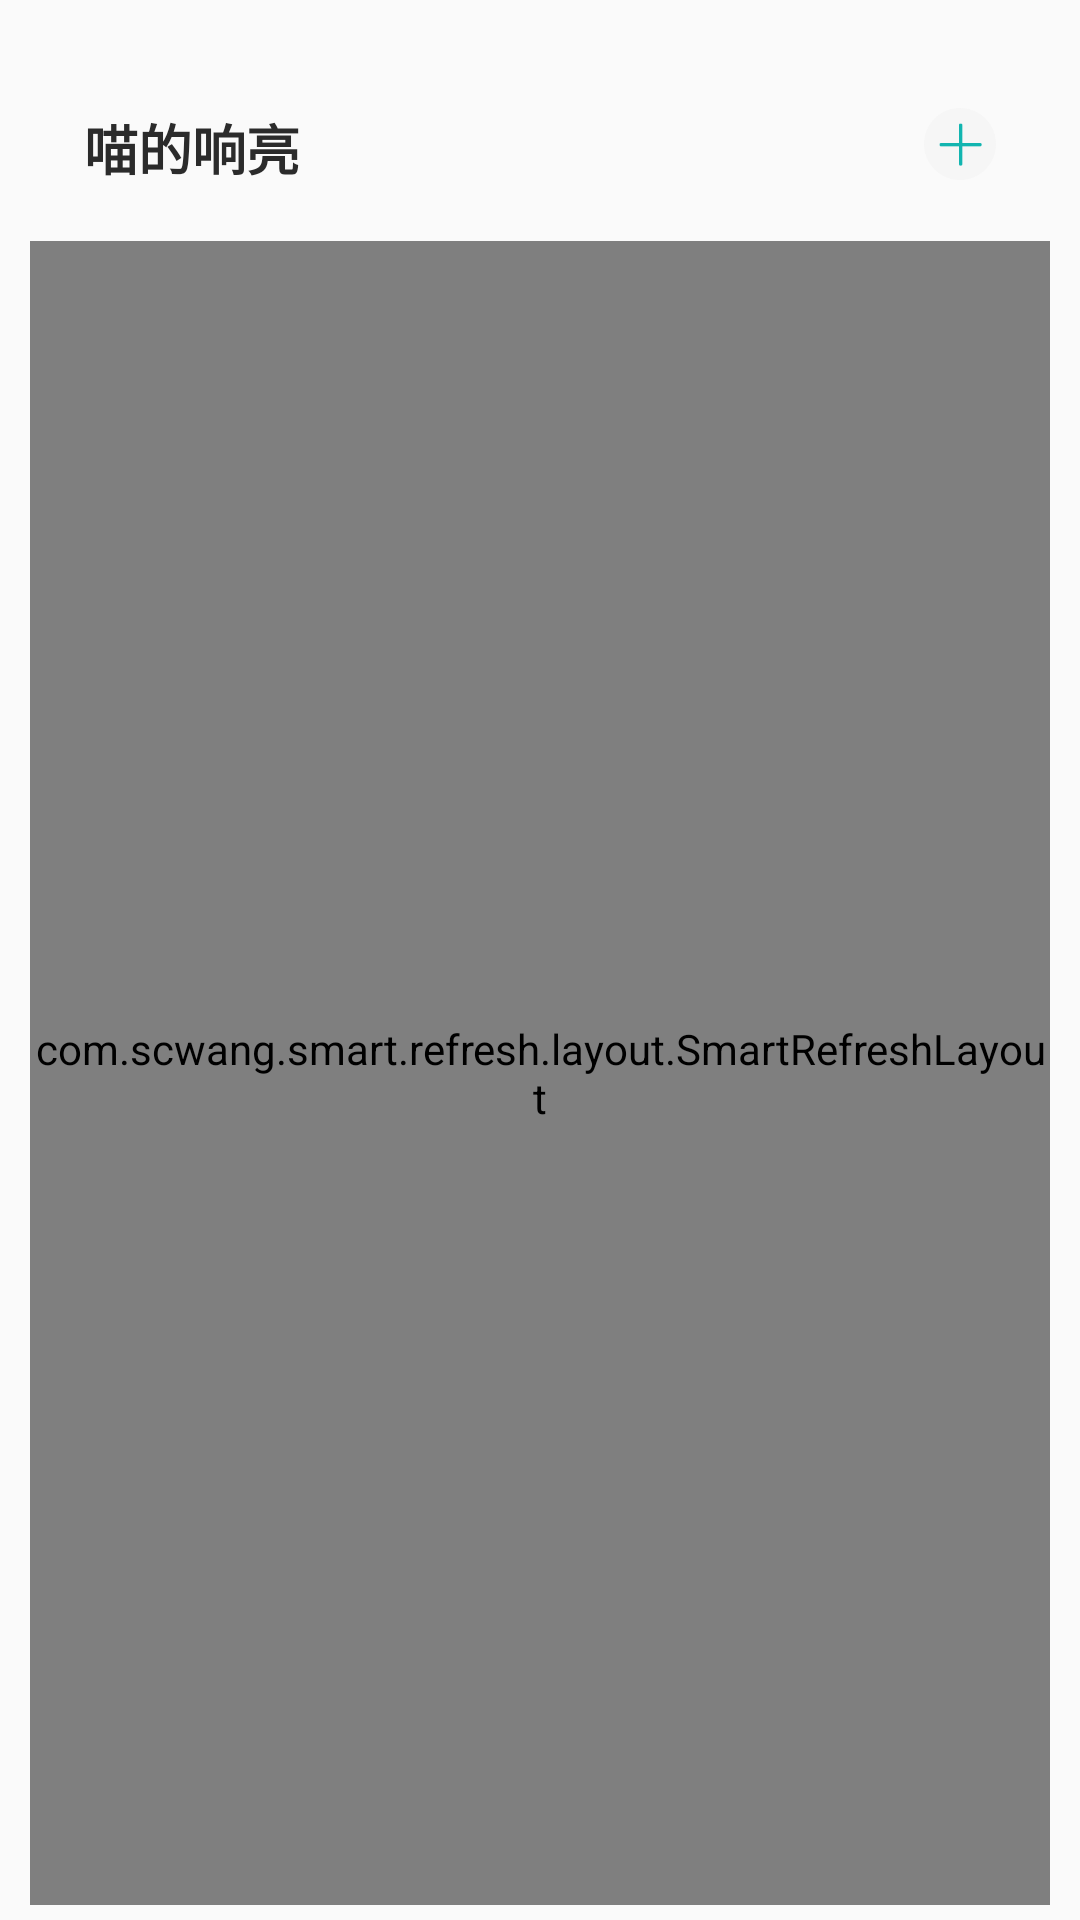

Icons on this 1080px x 1920px Android screen, each with the point to tap as (x=x, y=y):
shortcuts add: (x=960, y=144)
